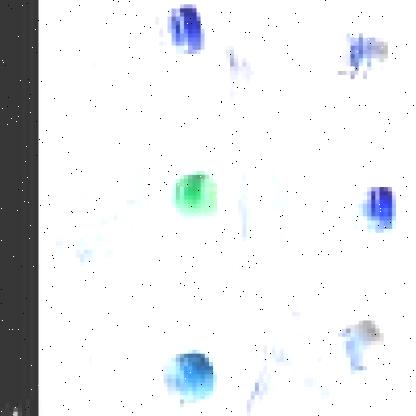Plastic Bottle: (45, 0, 399, 416), (232, 131, 396, 285), (54, 131, 218, 283), (54, 306, 218, 414), (239, 303, 391, 415), (226, 22, 392, 116), (70, 0, 206, 96), (160, 349, 218, 401), (171, 170, 219, 220), (348, 186, 396, 233)
